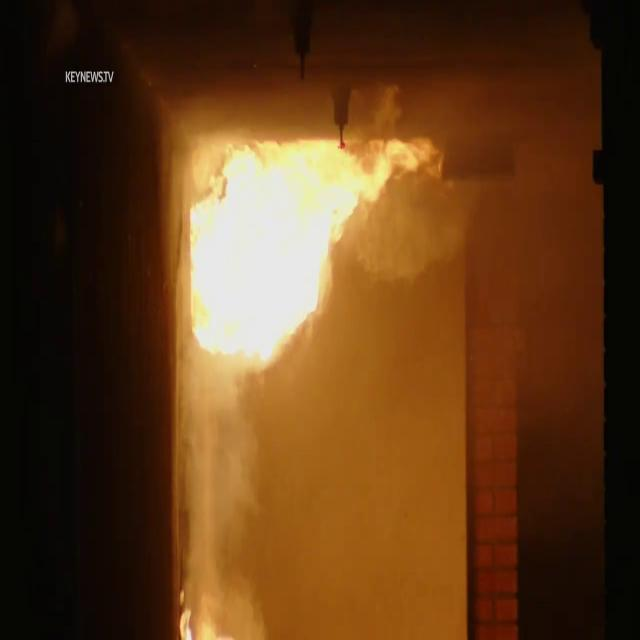Fire: (182, 115, 450, 376)
